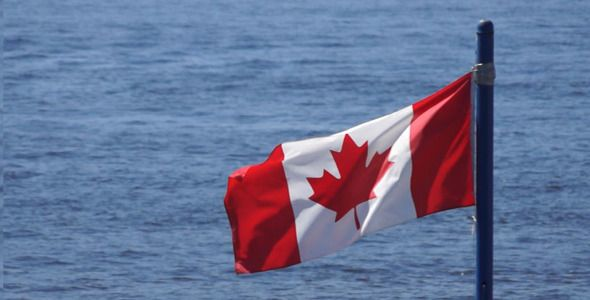Canada flag: (226, 72, 476, 276)
